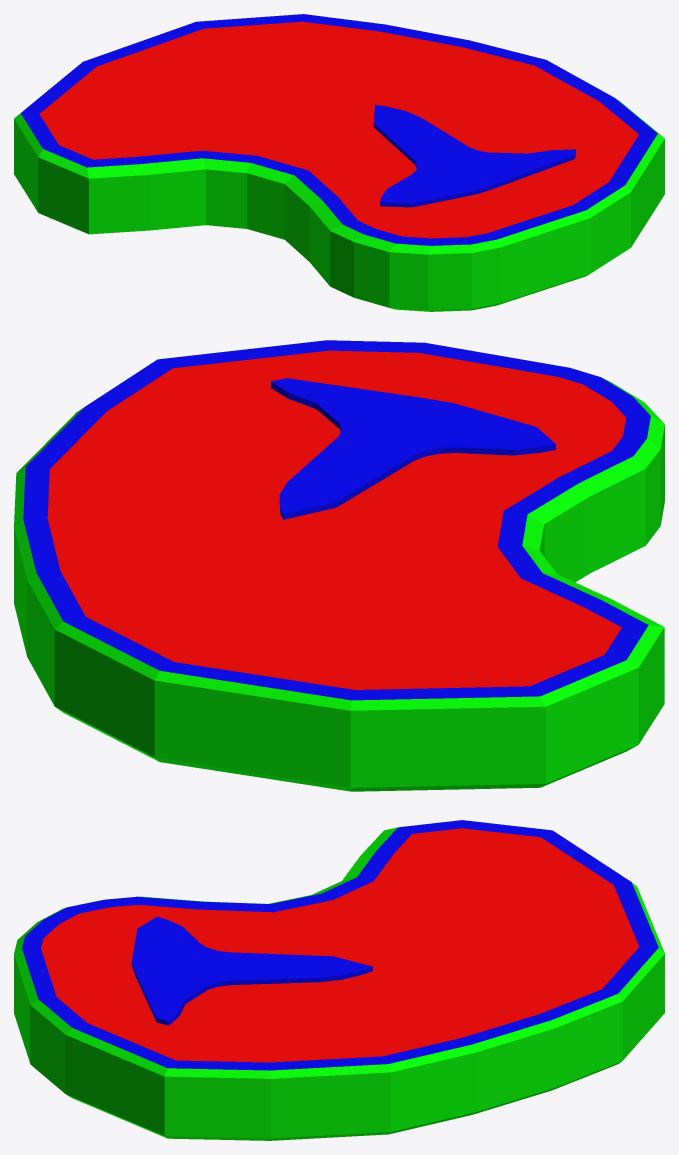
File: steak.fbx
The picture shows the model from 3 angles, top to bottom: view 1: azimuth 30°, elevation 25°; view 2: azimuth 150°, elevation 25°; view 3: azimuth 270°, elevation 25°; orthographic projection. The views are drawn at different scales.
Visible parts, largest first — view 1: steak; view 2: steak; view 3: steak.
Part boxes in pixels (left/top/right/bottom): steak: left=14, top=14, right=664, bottom=311; steak: left=14, top=340, right=664, bottom=791; steak: left=14, top=820, right=664, bottom=1140.
Bounding box in the file's own units: 509 × 71.66 × 545.
